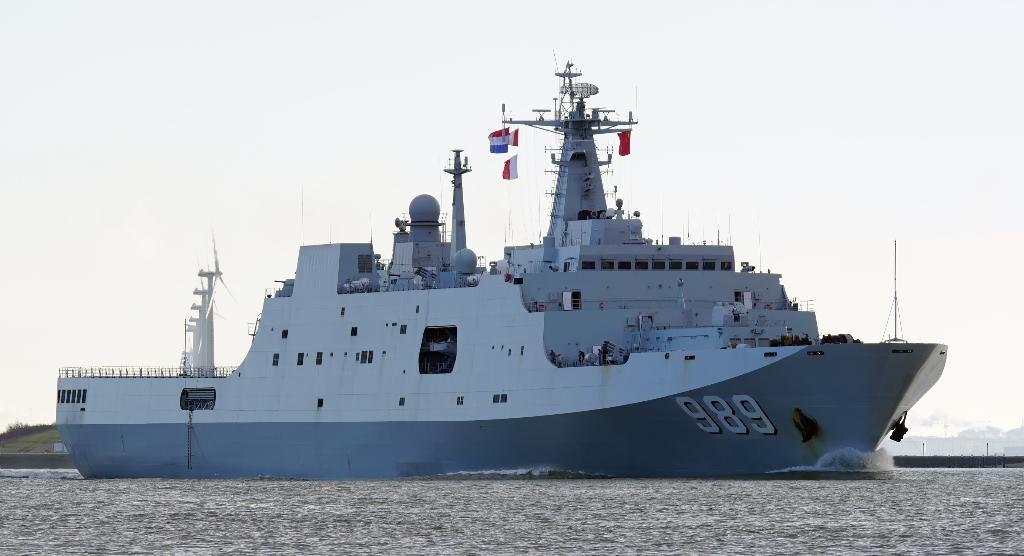Warship: (50, 55, 956, 481)
